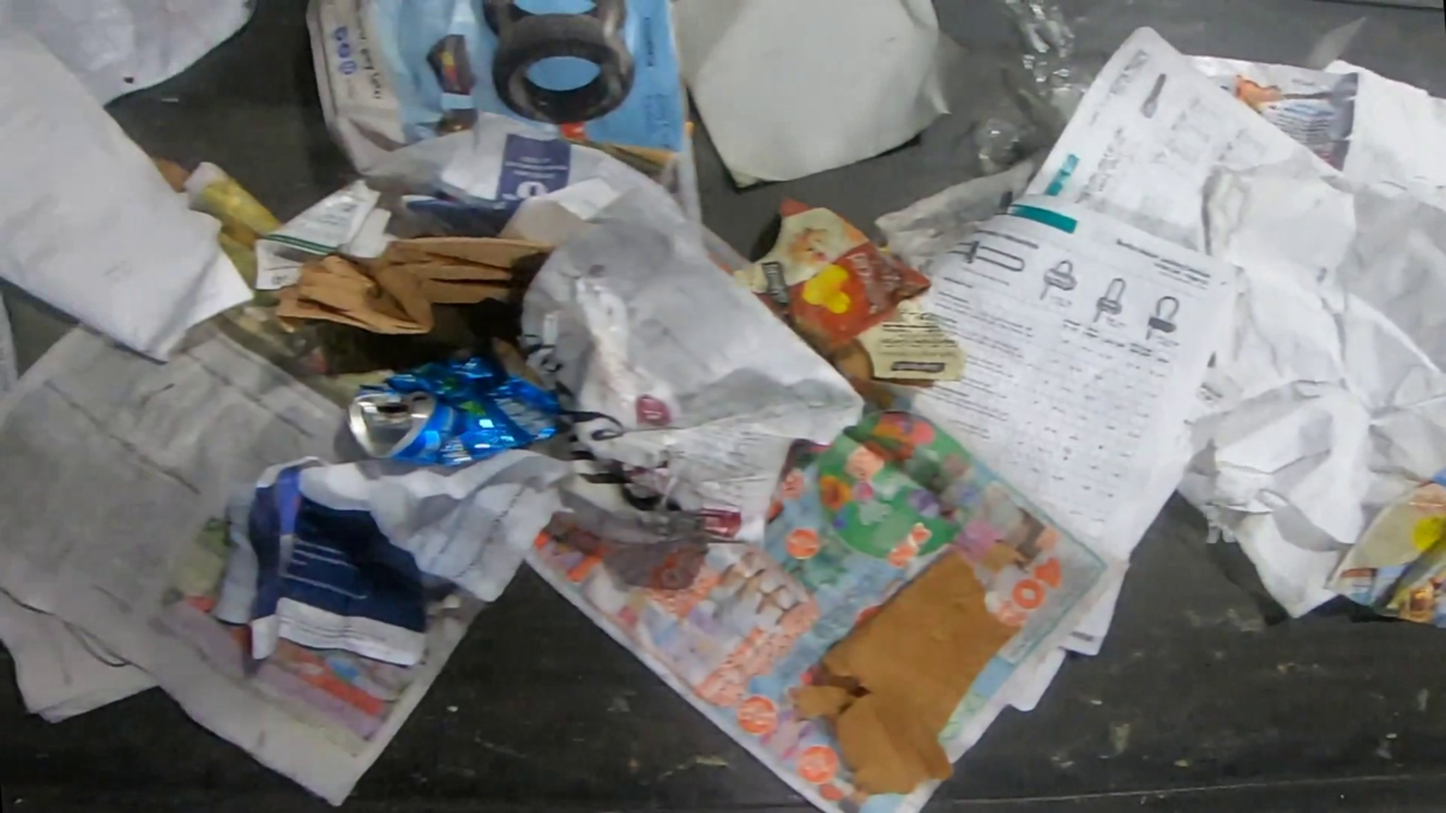cardboard: (723, 195, 963, 405)
metal: (347, 347, 557, 469)
plastic: (972, 1, 1111, 174)
